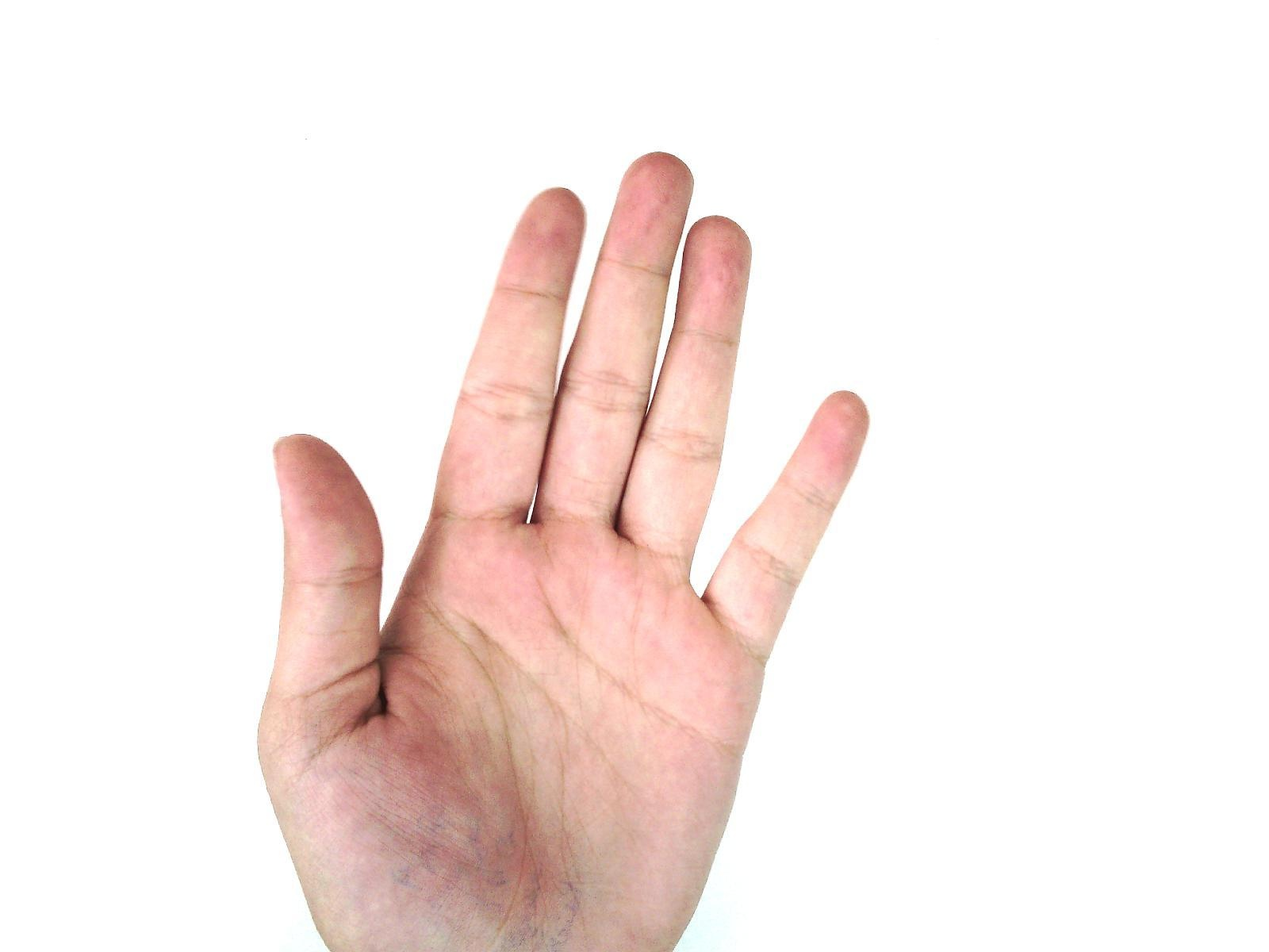open_palm: (255, 151, 873, 952)
